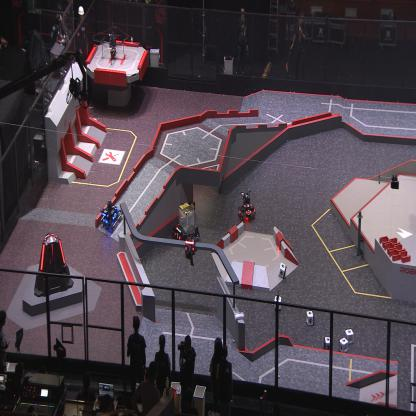car: (172, 199, 200, 246), (99, 199, 122, 234), (237, 189, 257, 222)
